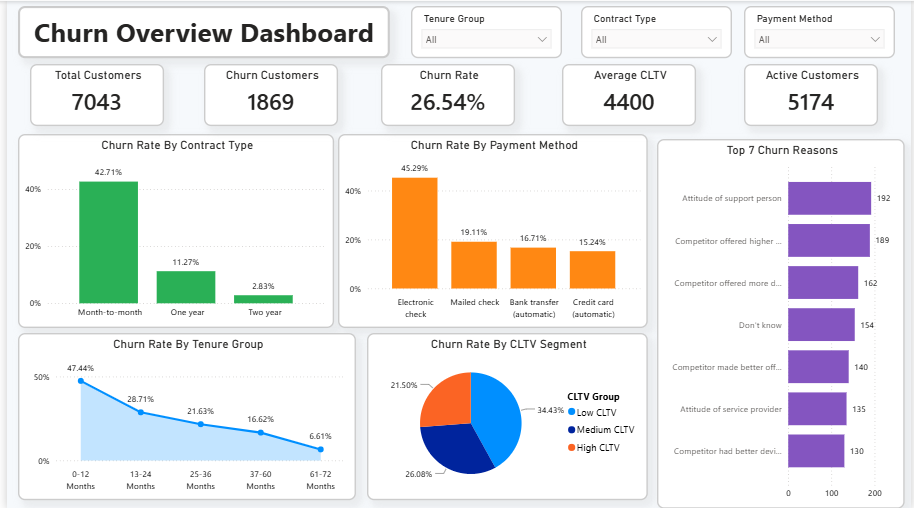

This screenshot's page, from the dashboard's own definition file:
{"tool":"powerbi","page":{"name":"Page 1","canvas":[1280,720],"ordinal":0},"visuals":[{"type":"columnChart","title":"Churn Rate By Contract Type","fields":{"Category":["telecomechurn dim_contract.contract"],"Y":["telecomechurn fact_customer_metrics.Churn rate"]},"box":[15.6,188.5,447.9,275],"z":0},{"type":"columnChart","title":"Churn Rate By Payment Method","fields":{"Category":["telecomechurn dim_contract.payment_method"],"Y":["telecomechurn fact_customer_metrics.Churn rate"]},"box":[469.1,188.5,439.4,275],"z":1000},{"type":"areaChart","title":"Churn Rate By Tenure Group","fields":{"Category":["telecomechurn fact_customer_metrics.Tenure Group"],"Y":["fact_customer_metrics.Churn rate"]},"box":[15.6,470.6,479.1,236.7],"z":2000},{"type":"pieChart","title":"Churn Rate By CLTV Segment","fields":{"Category":["fact_customer_metrics.CLTV Group"],"Y":["fact_customer_metrics.Churn rate"]},"box":[510.2,470.6,398.3,236.7],"z":3000},{"type":"barChart","title":"Top 7 Churn Reasons","fields":{"Category":["fact_customer_metrics.churn_reason"],"Y":["CountNonNull(fact_customer_metrics.churn_reason)"]},"box":[921.3,195.6,351.5,524.4],"z":4000},{"type":"textbox","box":[15.6,7.1,527.2,73.7],"z":5000},{"type":"cardVisual","title":"Total Customers","fields":{"Data":["fact_customer_metrics.Total_customer"]},"box":[32.6,89.3,189.9,87.9],"z":6000},{"type":"cardVisual","title":"Churn Customers","fields":{"Data":["fact_customer_metrics.Churn Customers"]},"box":[279.2,89.3,189.9,87.9],"z":7000},{"type":"cardVisual","title":"Churn Rate","fields":{"Data":["fact_customer_metrics.Churn rate"]},"box":[530.1,89.3,189.9,87.9],"z":8000},{"type":"cardVisual","title":"Average CLTV","fields":{"Data":["fact_customer_metrics.Average CLTV"]},"box":[786.6,89.3,189.9,87.9],"z":9000},{"type":"cardVisual","title":"Active Customers","fields":{"Data":["fact_customer_metrics.Active Customers"]},"box":[1044.6,89.3,189.9,87.9],"z":10000},{"type":"slicer","fields":{"Values":["fact_customer_metrics.Tenure Group"]},"box":[572.6,7.1,214,73.7],"z":11000},{"type":"slicer","fields":{"Values":["dim_contract.contract"]},"box":[813.5,7.1,214,73.7],"z":12000},{"type":"slicer","fields":{"Values":["dim_contract.payment_method"]},"box":[1044.6,7.1,214,73.7],"z":13000}]}

Visuals, with their boxes in screenshot pixels (x1, y1, x2, y2), scaled from the page's 1280x720 canvas onto the 914x508 screenshot:
"Churn Rate By Contract Type" columnChart: locate(11, 133, 331, 327)
"Churn Rate By Payment Method" columnChart: locate(335, 133, 649, 327)
"Churn Rate By Tenure Group" areaChart: locate(11, 332, 353, 499)
"Churn Rate By CLTV Segment" pieChart: locate(364, 332, 649, 499)
"Top 7 Churn Reasons" barChart: locate(658, 138, 909, 507)
textbox: locate(11, 5, 388, 57)
"Total Customers" cardVisual: locate(23, 63, 159, 125)
"Churn Customers" cardVisual: locate(199, 63, 335, 125)
"Churn Rate" cardVisual: locate(379, 63, 514, 125)
"Average CLTV" cardVisual: locate(562, 63, 697, 125)
"Active Customers" cardVisual: locate(746, 63, 882, 125)
slicer - fact_customer_metrics.Tenure Group: locate(409, 5, 562, 57)
slicer - dim_contract.contract: locate(581, 5, 734, 57)
slicer - dim_contract.payment_method: locate(746, 5, 899, 57)
